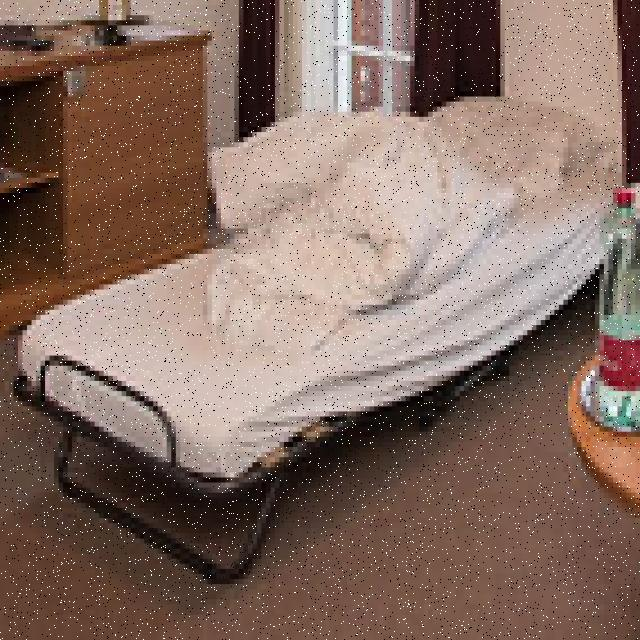bed: (73, 82, 620, 463)
